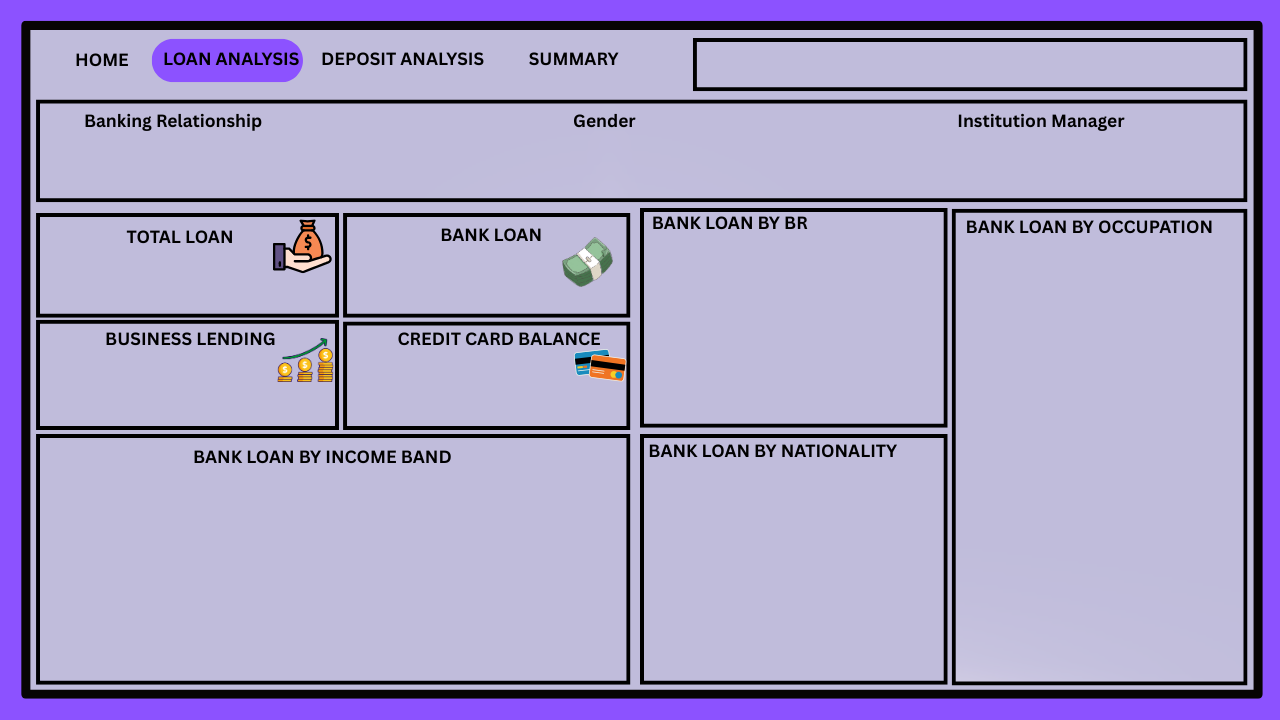

Layout of this report page (visuals, bound fields, positions):
{"tool":"powerbi","page":{"name":"LOAN ANALYSIS","canvas":[1280,720],"ordinal":2},"visuals":[{"type":"actionButton","box":[51.6,37.9,100.2,39.9],"z":0},{"type":"actionButton","box":[318.1,37.9,169.2,39.9],"z":1000},{"type":"card","fields":{"Values":["Sum(Banking.Bank Loans)"]},"box":[67.1,231.5,250.9,74.9],"z":2000},{"type":"advancedSlicerVisual","fields":{"Values":["Banking.Joining year"]},"box":[698,38.3,548.9,49.7],"z":3000},{"type":"card","fields":{"Values":["Banking.Total Loans"]},"box":[361.8,231.5,250.9,74.9],"z":4000},{"type":"card","fields":{"Values":["Sum(Banking.Business Lending)"]},"box":[67.1,332.6,250.9,74.9],"z":5000},{"type":"card","fields":{"Values":["Sum(Banking.Credit Card Balance)"]},"box":[361.8,332.6,250.9,74.9],"z":6000},{"type":"donutChart","fields":{"Category":["Banking.Income band"],"Y":["Sum(Banking.Bank Loans)"]},"box":[175,476.4,328.3,188.5],"z":7000},{"type":"clusteredColumnChart","fields":{"Category":["Banking.BRId"],"Y":["Sum(Banking.Bank Loans)"]},"box":[647.2,232,284.8,203],"z":8000},{"type":"clusteredColumnChart","fields":{"Y":["Sum(Banking.Bank Loans)"],"Category":["Banking.Nationality"]},"box":[640,469.1,284.8,203],"z":9000},{"type":"clusteredColumnChart","fields":{"Y":["Sum(Banking.Bank Loans)"],"Category":["Banking.Occupation"]},"box":[953.8,239.2,284.8,462.9],"z":10000},{"type":"advancedSlicerVisual","fields":{"Values":["Banking.BRId"]},"box":[51.8,135.7,467.1,49.7],"z":11000},{"type":"advancedSlicerVisual","fields":{"Values":["Banking.GenderId"]},"box":[554,135.7,320,49.7],"z":12000},{"type":"slicer","fields":{"Values":["Investment Advisor.Investment Advisor"]},"box":[911.3,135.7,327.2,49.7],"z":13000},{"type":"shape","box":[528.2,105.6,12.4,87],"z":14000},{"type":"shape","box":[881.3,105.6,13.5,87],"z":15000},{"type":"actionButton","box":[495.1,37.9,171.2,39.9],"z":16000}]}

Visuals, with their boxes in screenshot pixels (x1, y1, x2, y2), scaled from the page's 1280x720 canvas onto the 1280x720 screenshot:
actionButton: {"left": 52, "top": 38, "right": 152, "bottom": 78}
actionButton: {"left": 318, "top": 38, "right": 487, "bottom": 78}
card - Sum(Banking.Bank Loans): {"left": 67, "top": 232, "right": 318, "bottom": 306}
advancedSlicerVisual - Banking.Joining year: {"left": 698, "top": 38, "right": 1247, "bottom": 88}
card - Banking.Total Loans: {"left": 362, "top": 232, "right": 613, "bottom": 306}
card - Sum(Banking.Business Lending): {"left": 67, "top": 333, "right": 318, "bottom": 408}
card - Sum(Banking.Credit Card Balance): {"left": 362, "top": 333, "right": 613, "bottom": 408}
donutChart - Banking.Income band x Sum(Banking.Bank Loans): {"left": 175, "top": 476, "right": 503, "bottom": 665}
clusteredColumnChart - Banking.BRId x Sum(Banking.Bank Loans): {"left": 647, "top": 232, "right": 932, "bottom": 435}
clusteredColumnChart - Sum(Banking.Bank Loans) x Banking.Nationality: {"left": 640, "top": 469, "right": 925, "bottom": 672}
clusteredColumnChart - Sum(Banking.Bank Loans) x Banking.Occupation: {"left": 954, "top": 239, "right": 1239, "bottom": 702}
advancedSlicerVisual - Banking.BRId: {"left": 52, "top": 136, "right": 519, "bottom": 185}
advancedSlicerVisual - Banking.GenderId: {"left": 554, "top": 136, "right": 874, "bottom": 185}
slicer - Investment Advisor.Investment Advisor: {"left": 911, "top": 136, "right": 1238, "bottom": 185}
shape: {"left": 528, "top": 106, "right": 541, "bottom": 193}
shape: {"left": 881, "top": 106, "right": 895, "bottom": 193}
actionButton: {"left": 495, "top": 38, "right": 666, "bottom": 78}
